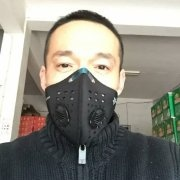Mask: (40, 51, 125, 135)
